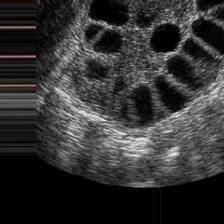pcos: (38, 0, 224, 133)
